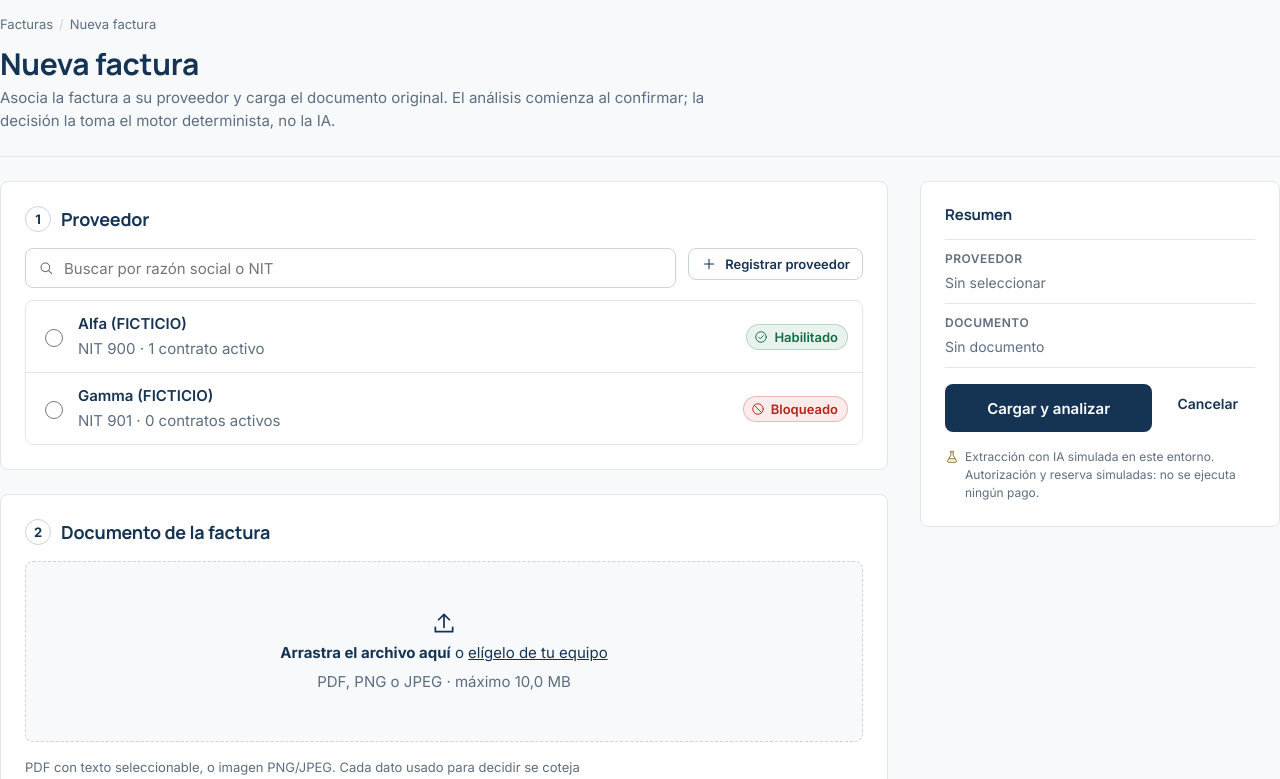
Test: Nueva factura › muestra el estado del proveedor y su consecuencia antes de cargar
Click the radio button labelled "Gamma (FICTICIO) NIT 901 · 0 contratos activos Bloqueado".
click(54, 410)  # box [45,401,63,419]
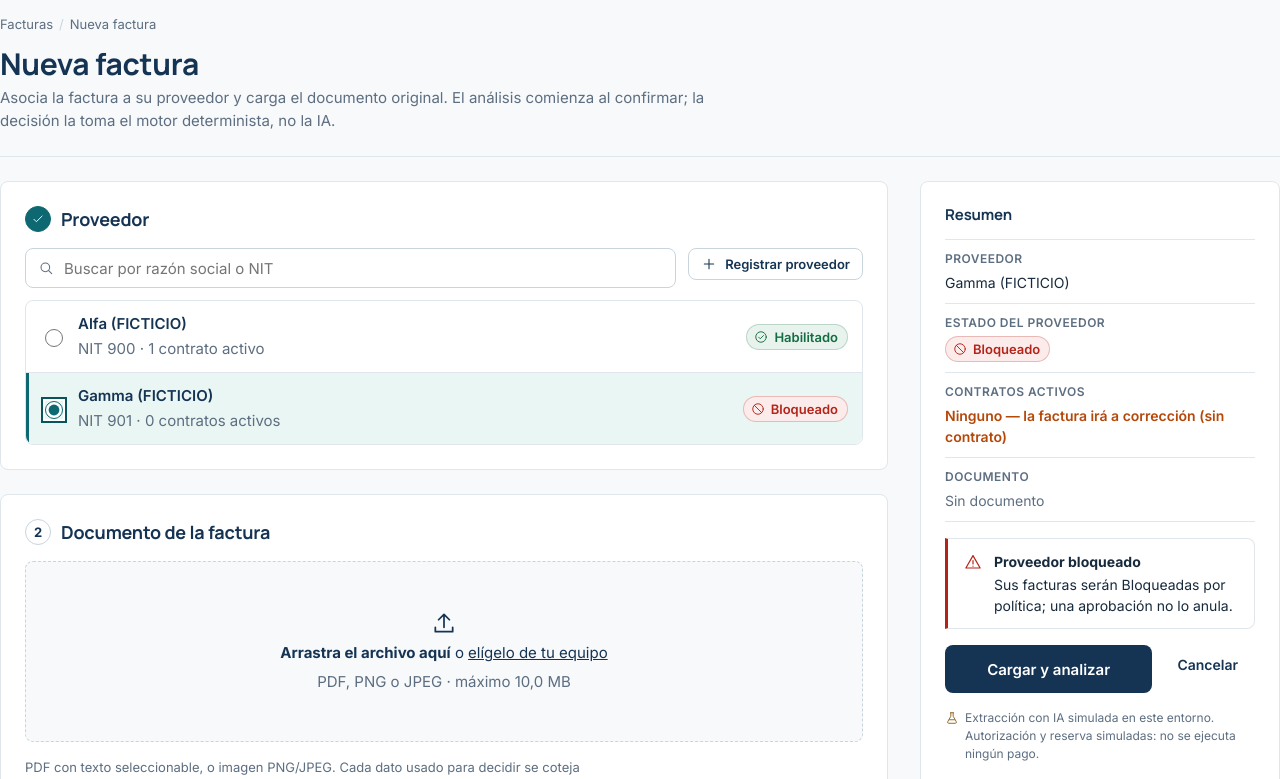
Now the text "Proveedor bloqueado" is shown, box [994,553,1141,570]
Now the text "una aprobación no lo anula" is shown, box [994,576,1233,614]
Click the radio button labelled "Alfa (FICTICIO) NIT 900 · 1 contrato activo Habilitado".
click(54, 338)  # box [45,329,63,347]
(page scrolled)
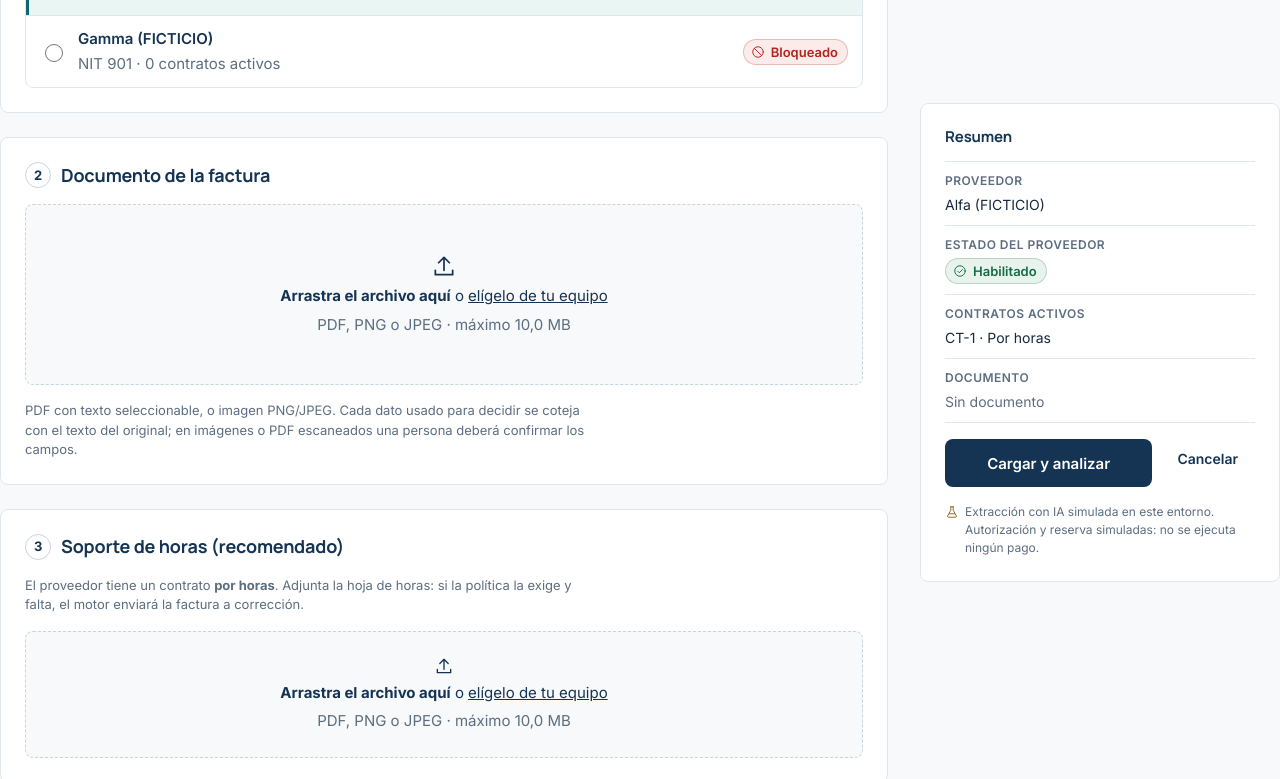
Now the text "CT-1 · Por horas" is shown, box [945,329,1051,346]
Now the heading "3 Soporte de horas (recomendado)" is shown, box [25,534,344,560]
